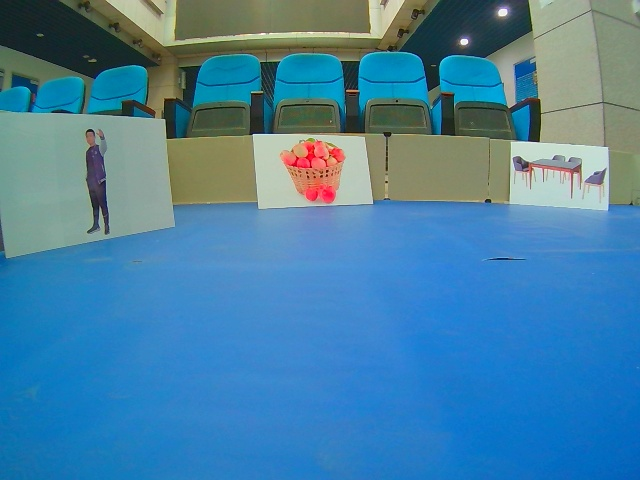food: (253, 134, 375, 210)
person: (2, 111, 174, 258)
table: (507, 141, 611, 211)
